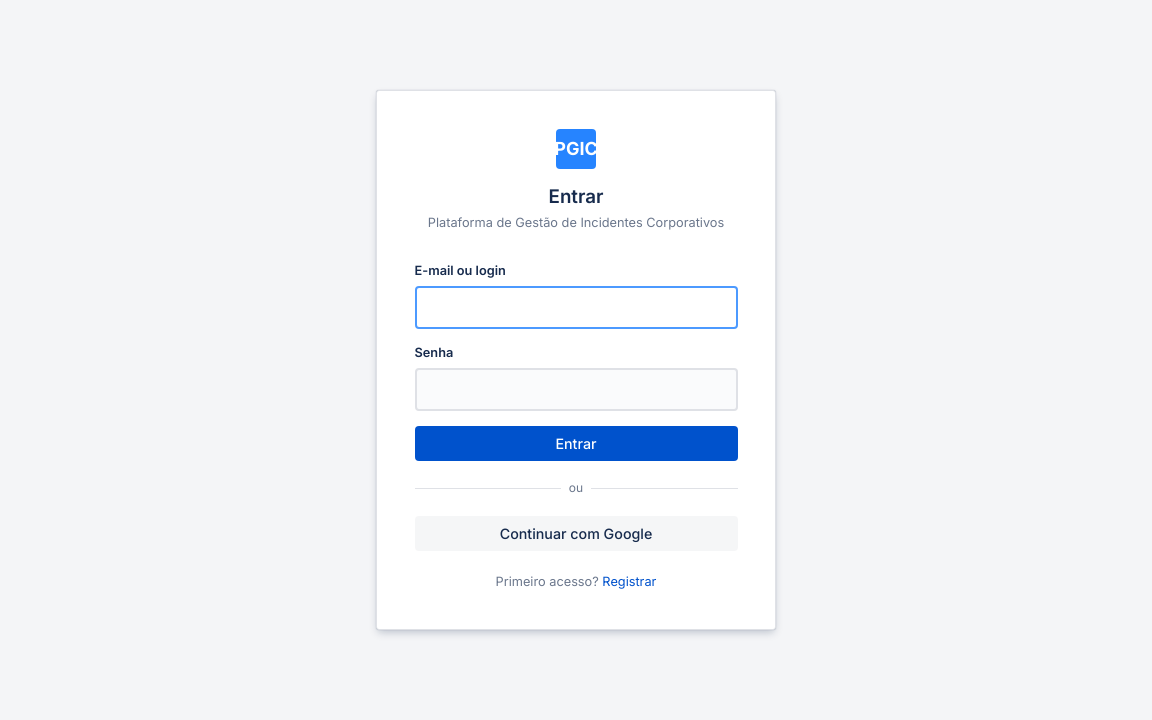
Test: auth pages › logs in with password and opens the dashboard
The image size is (1152, 720).
Expected: the heading "Entrar" is shown, [548,185,603,208]
Type "vinicius@example.com" into the field labelled "E-mail ou login". click: (576, 307)
box: [414,286,738,329]
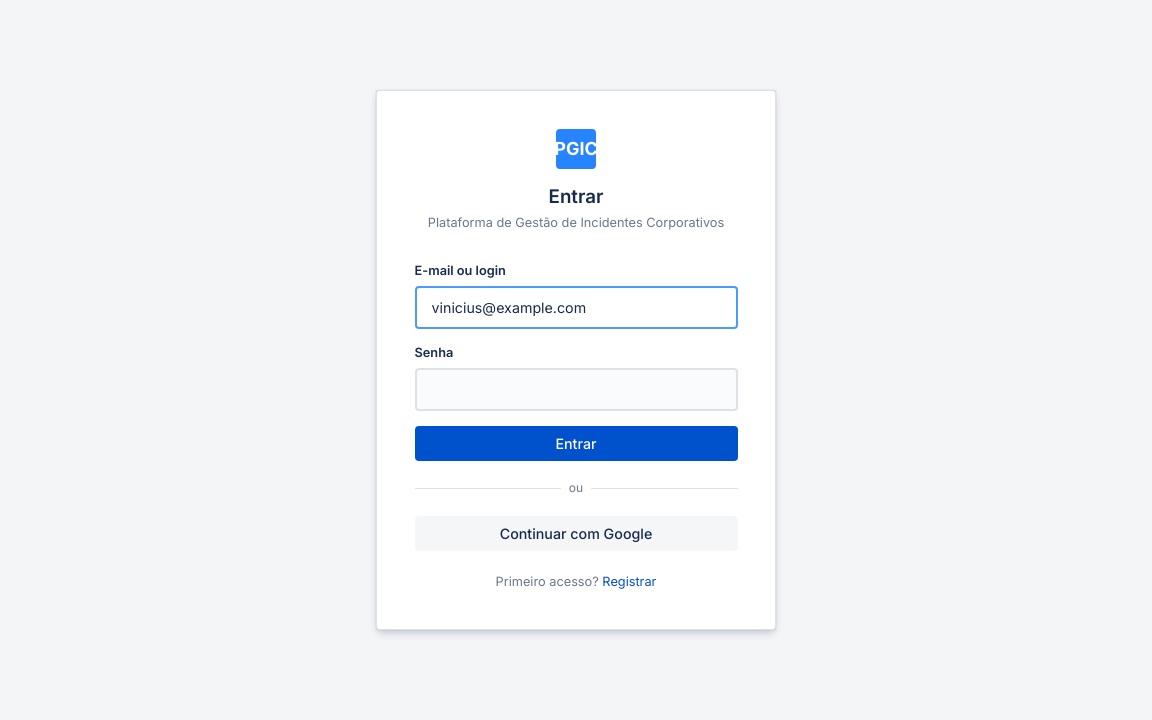
Type "Password123" into the password field labelled "Senha". click: (576, 390)
box: [414,368,738,411]
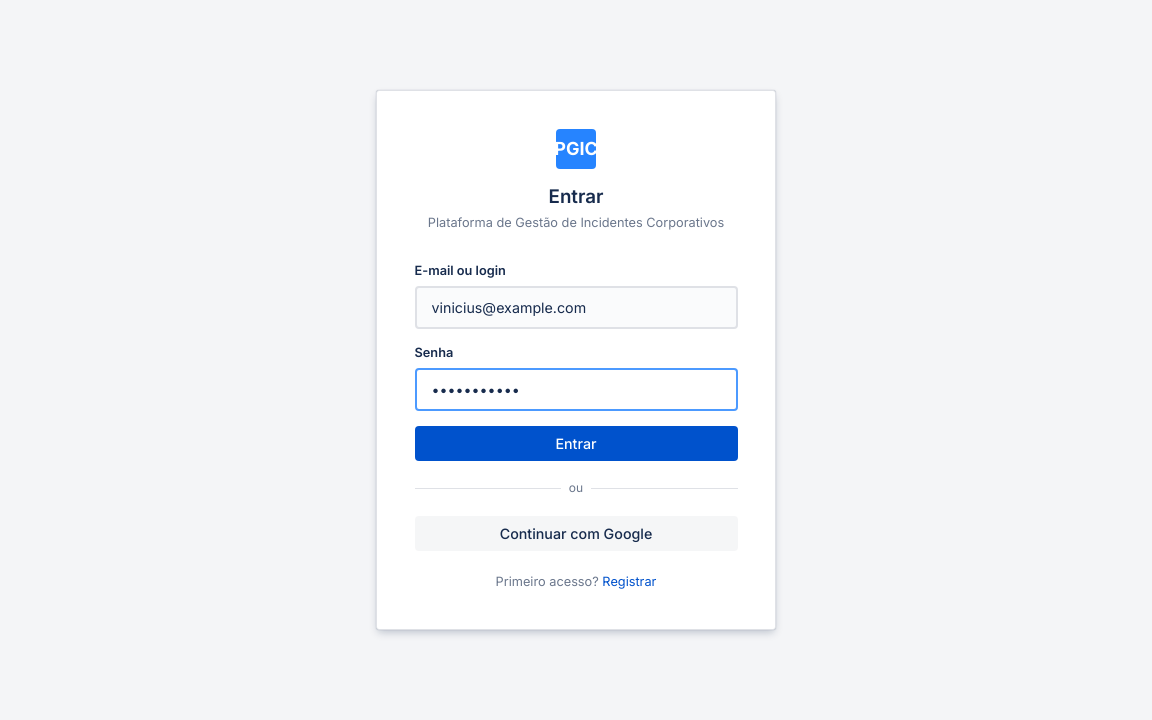
Click the button "Entrar". click: (576, 444)
box: [414,426,738,461]
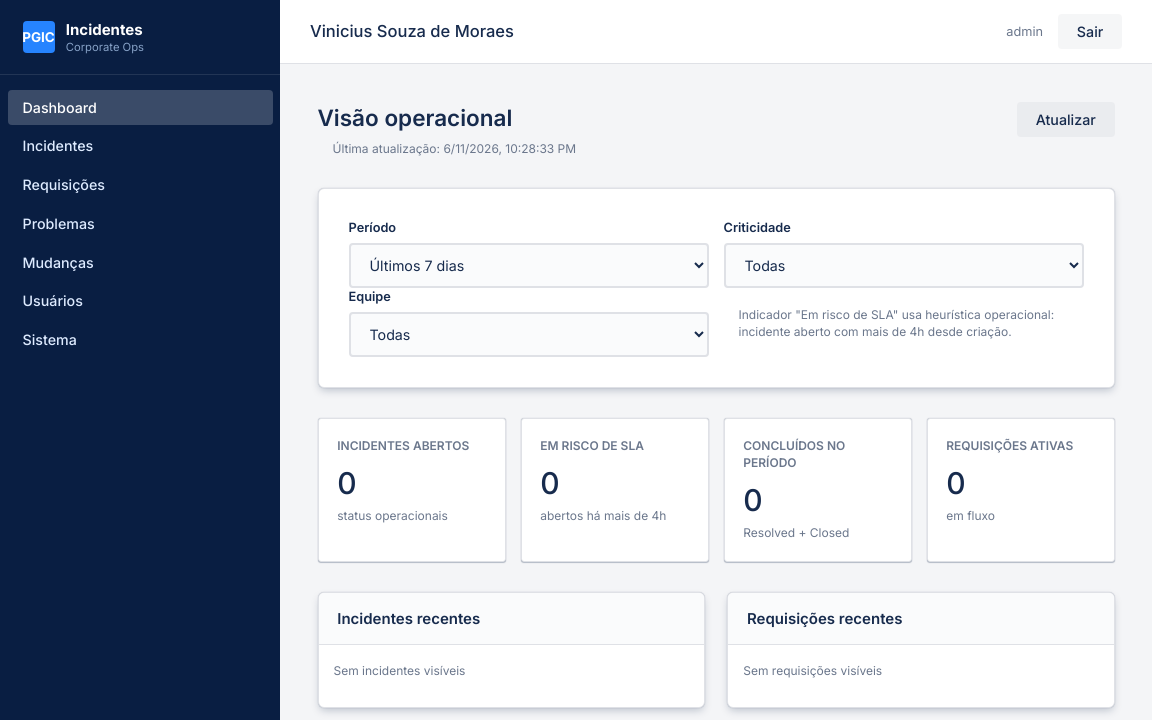
Expected: the heading "Visão operacional" is shown, [318,104,512,130]
Expected: the heading "Vinicius Souza de Moraes" is shown, [310,20,514,43]
